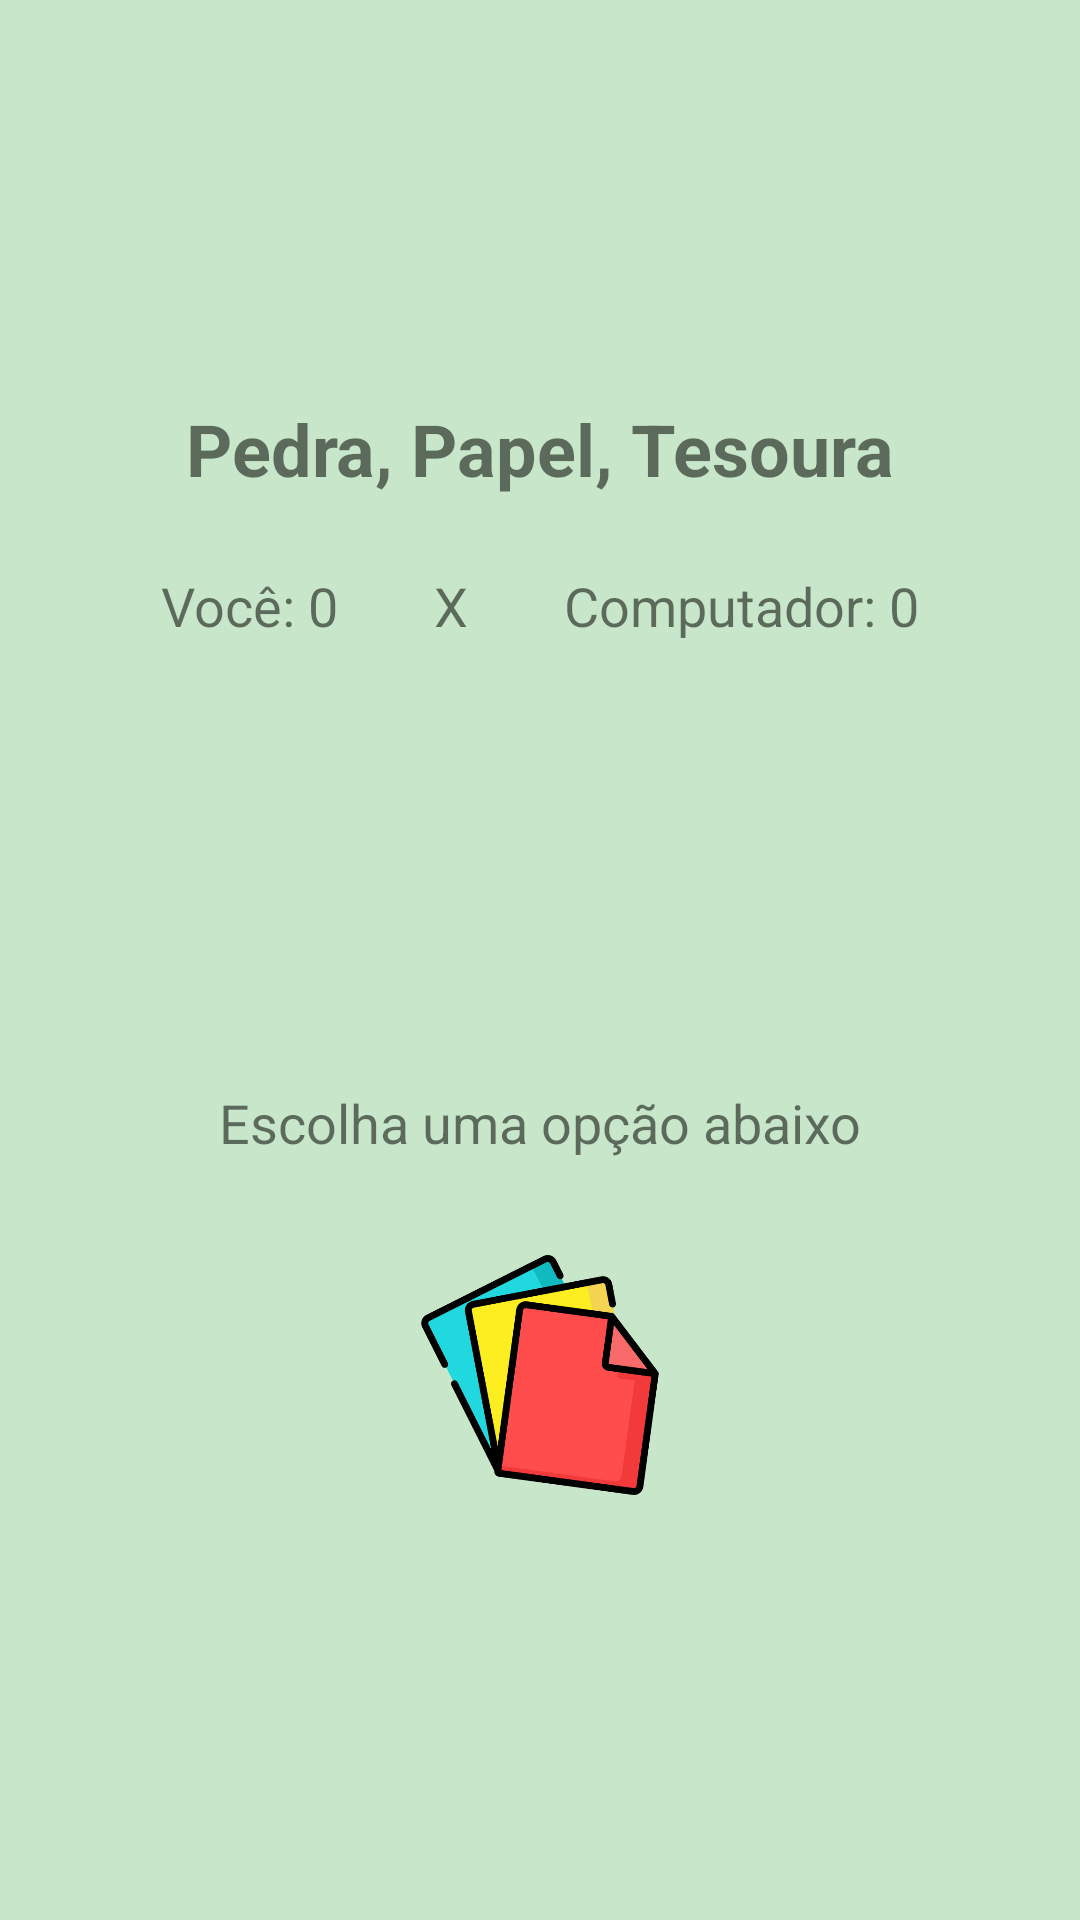

Where icons sit on this 1080 × 1920 app screen, as detection(x1, y1, x2, y2):
Escolha Papel: detection(421, 1255, 659, 1495)
